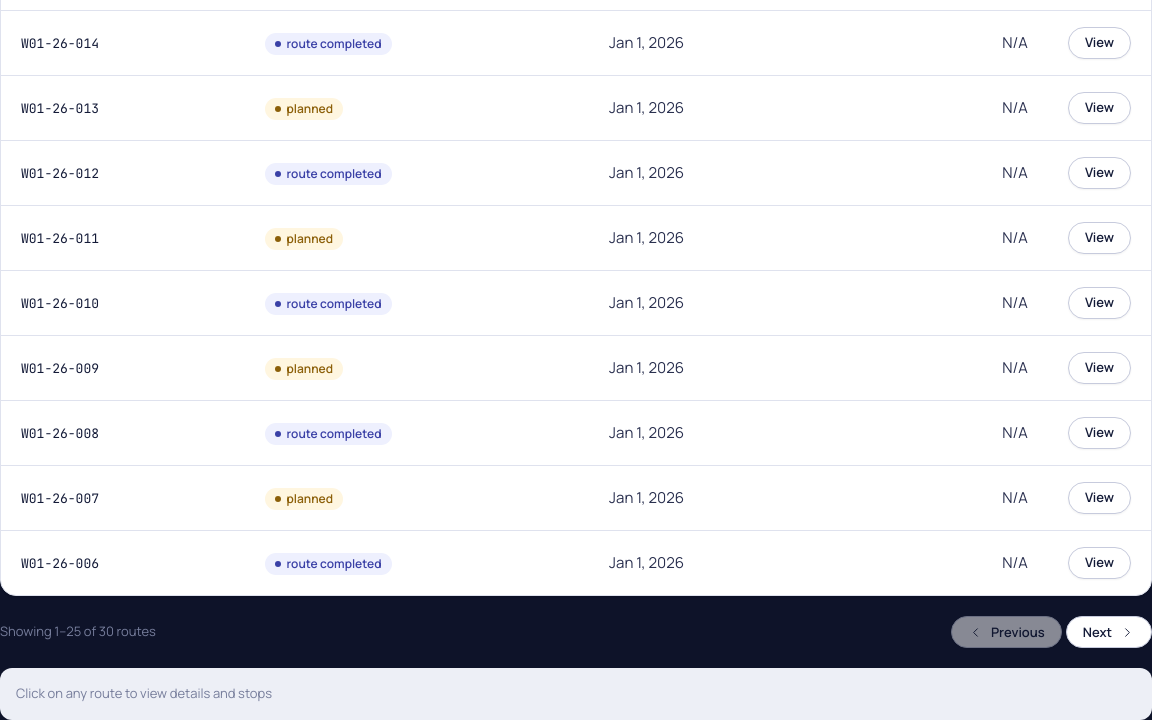
Test: Customer Routes List Page › with more than one page of routes › shows the newest 25 routes, then the rest on the next page
The image size is (1152, 720).
(page scrolled)
Expected: the text "Showing 1–25 of 30 routes" is shown, left=0, top=622, right=156, bottom=642
Expected: the button with aria-label "Previous page of routes" is disabled, left=951, top=616, right=1062, bottom=648
Click the button with aria-label "Next page of routes". click: (1109, 632)
box: left=1066, top=616, right=1151, bottom=648
(page scrolled)
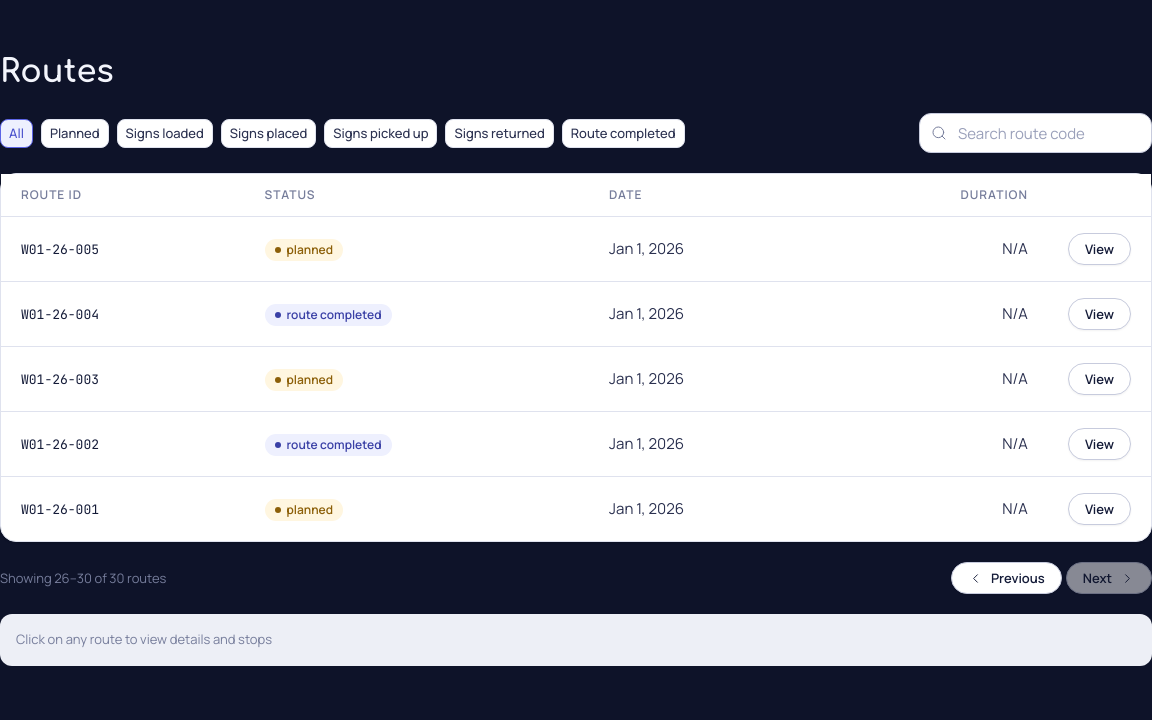
Expected: the text "Showing 26–30 of 30 routes" is shown, left=0, top=569, right=166, bottom=588
Expected: the button with aria-label "Next page of routes" is disabled, left=1066, top=562, right=1151, bottom=594
